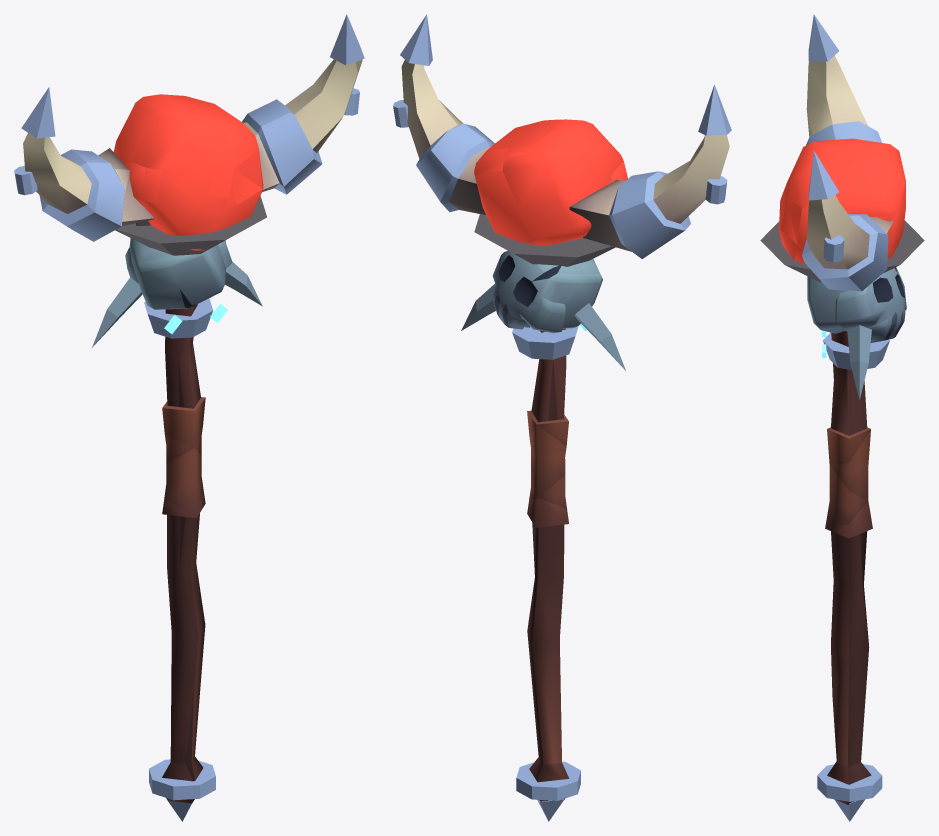
File: staff_fire_rare.glb
3 renders of one model, left to right at view 1: azimuth 30°, elevation 25°; view 2: azimuth 150°, elevation 25°; view 3: azimuth 270°, elevation 25°, orthographic. The views are drawn at different scales.
Visible parts, largest first — view 1: staff_orc_fire_rare; view 2: staff_orc_fire_rare; view 3: staff_orc_fire_rare.
Part boxes in pixels (left/top/right/bottom): staff_orc_fire_rare: left=14, top=14, right=364, bottom=821; staff_orc_fire_rare: left=393, top=14, right=731, bottom=821; staff_orc_fire_rare: left=760, top=14, right=924, bottom=821.
Size of the model in its own units: 114 by 248 by 50.11.
Materials: 7 (3 with a texture image).
